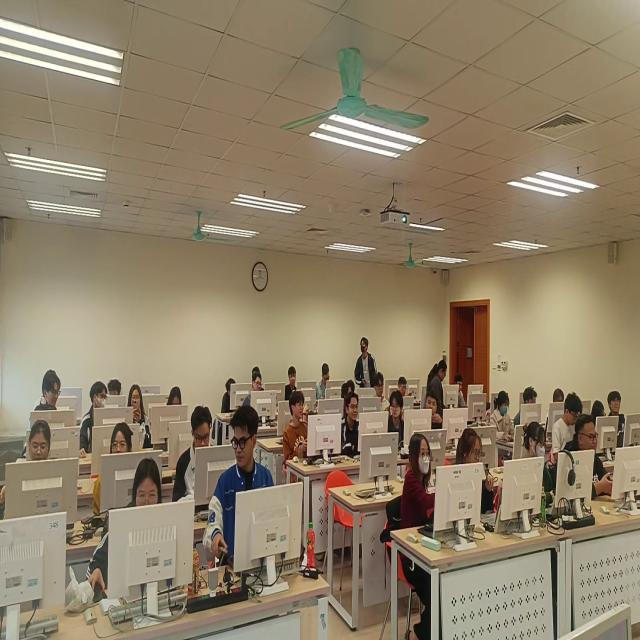raise_head: (399, 431, 451, 549), (94, 423, 136, 520), (285, 388, 319, 478), (335, 394, 370, 460), (244, 374, 275, 426), (423, 389, 447, 443), (387, 389, 408, 448), (607, 389, 631, 435), (374, 372, 392, 414), (283, 366, 301, 399)
stand: (353, 334, 379, 400)
using_computer: (90, 461, 170, 613), (449, 428, 514, 530), (562, 415, 630, 510), (10, 423, 68, 516), (174, 405, 217, 513), (525, 423, 568, 520), (489, 391, 525, 446), (219, 372, 244, 424), (516, 386, 544, 430), (161, 384, 187, 430), (452, 376, 481, 417), (558, 394, 581, 445), (315, 364, 338, 403), (549, 382, 567, 418), (109, 377, 125, 408)
using_phone: (131, 386, 151, 446), (399, 378, 420, 407)
